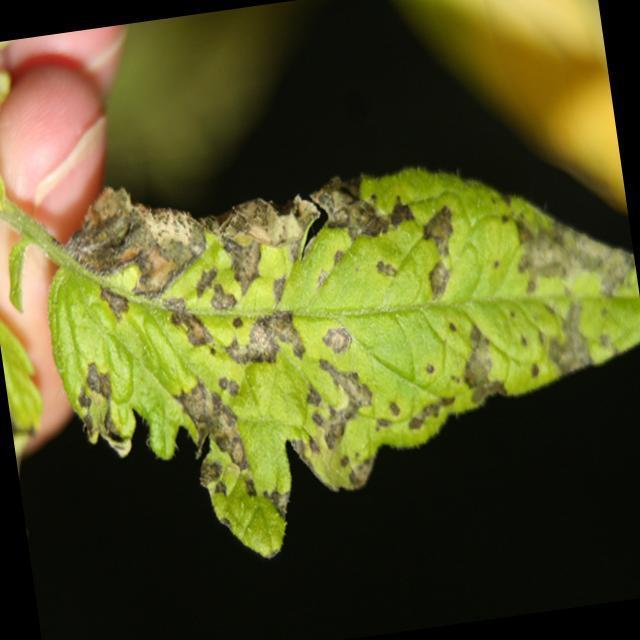Bacterial Spot: (43, 189, 640, 528)
